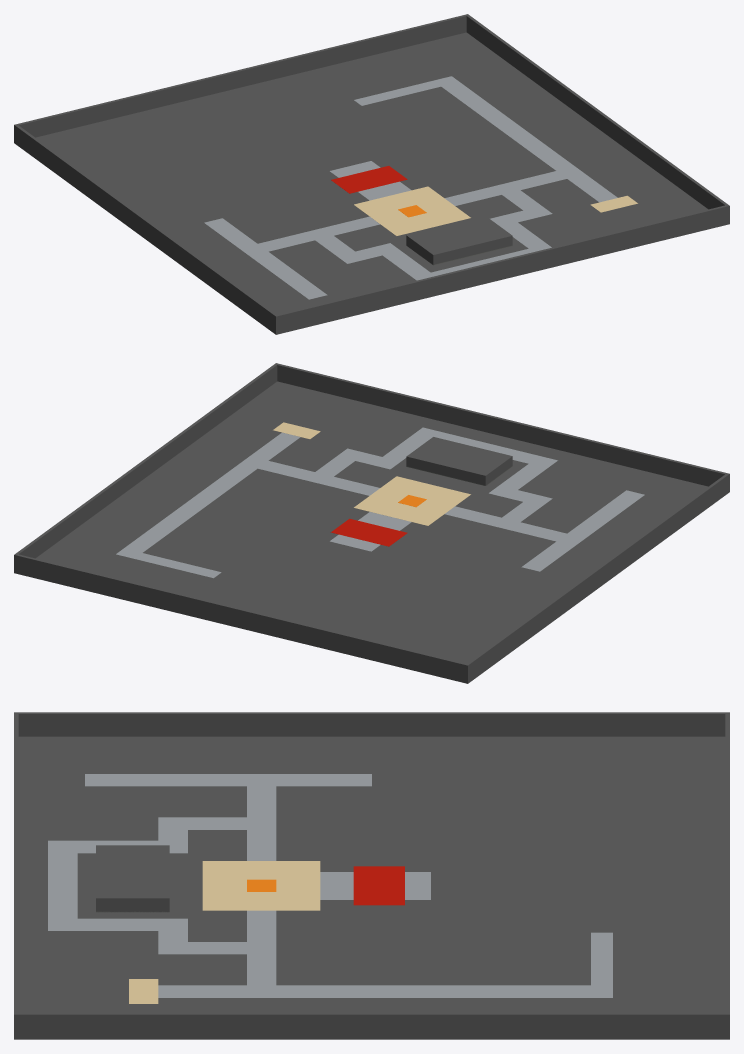
File: Zoo_Park_Base.dae
The picture shows the model from 3 angles, top to bottom: view 1: azimuth 30°, elevation 25°; view 2: azimuth 150°, elevation 25°; view 3: azimuth 270°, elevation 25°; orthographic projection. The views are drawn at different scales.
Visible parts, largest first — view 1: COL_Floor, Paths, COL_Wall_North, COL_Wall_South, COL_Wall_West, COL_Wall_East, Plazas, COL_Lake_Block, MARK_Security_Checkpoint; view 2: COL_Floor, Paths, COL_Wall_South, COL_Wall_North, COL_Wall_West, COL_Wall_East, Plazas, COL_Lake_Block, MARK_Security_Checkpoint; view 3: COL_Floor, Paths, COL_Wall_East, COL_Wall_West, Plazas, COL_Lake_Block, MARK_Security_Checkpoint, COL_Wall_North, COL_Wall_South.
Boxes of the visible parts, bbox=[...] form: COL_Floor: bbox=[36, 32, 707, 314]; Paths: bbox=[204, 76, 617, 299]; COL_Wall_North: bbox=[274, 204, 729, 334]; COL_Wall_South: bbox=[14, 14, 468, 143]; COL_Wall_West: bbox=[15, 125, 276, 333]; COL_Wall_East: bbox=[466, 15, 727, 209]; Plazas: bbox=[354, 186, 637, 235]; COL_Lake_Block: bbox=[406, 216, 512, 264]; MARK_Security_Checkpoint: bbox=[331, 166, 407, 193]; COL_Floor: bbox=[36, 381, 707, 663]; Paths: bbox=[116, 427, 644, 578]; COL_Wall_South: bbox=[14, 553, 469, 683]; COL_Wall_North: bbox=[275, 363, 729, 492]; COL_Wall_West: bbox=[467, 474, 728, 682]; COL_Wall_East: bbox=[16, 364, 277, 558]; Plazas: bbox=[273, 422, 470, 525]; COL_Lake_Block: bbox=[406, 437, 512, 485]; MARK_Security_Checkpoint: bbox=[331, 518, 407, 546]; COL_Floor: bbox=[18, 736, 725, 1012]; Paths: bbox=[48, 774, 612, 997]; COL_Wall_East: bbox=[18, 1013, 725, 1039]; COL_Wall_West: bbox=[18, 712, 725, 736]; Plazas: bbox=[129, 861, 320, 1003]; COL_Lake_Block: bbox=[96, 845, 169, 912]; MARK_Security_Checkpoint: bbox=[353, 866, 404, 905]; COL_Wall_North: bbox=[14, 712, 18, 1039]; COL_Wall_South: bbox=[725, 712, 729, 1039].
Bounding box in the file's own units: 156 × 6 × 156.
